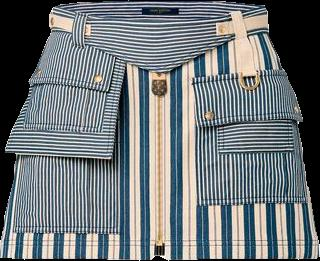Hemline: (0, 254, 319, 260)
Waistline: (50, 27, 265, 74), (54, 4, 262, 24)
